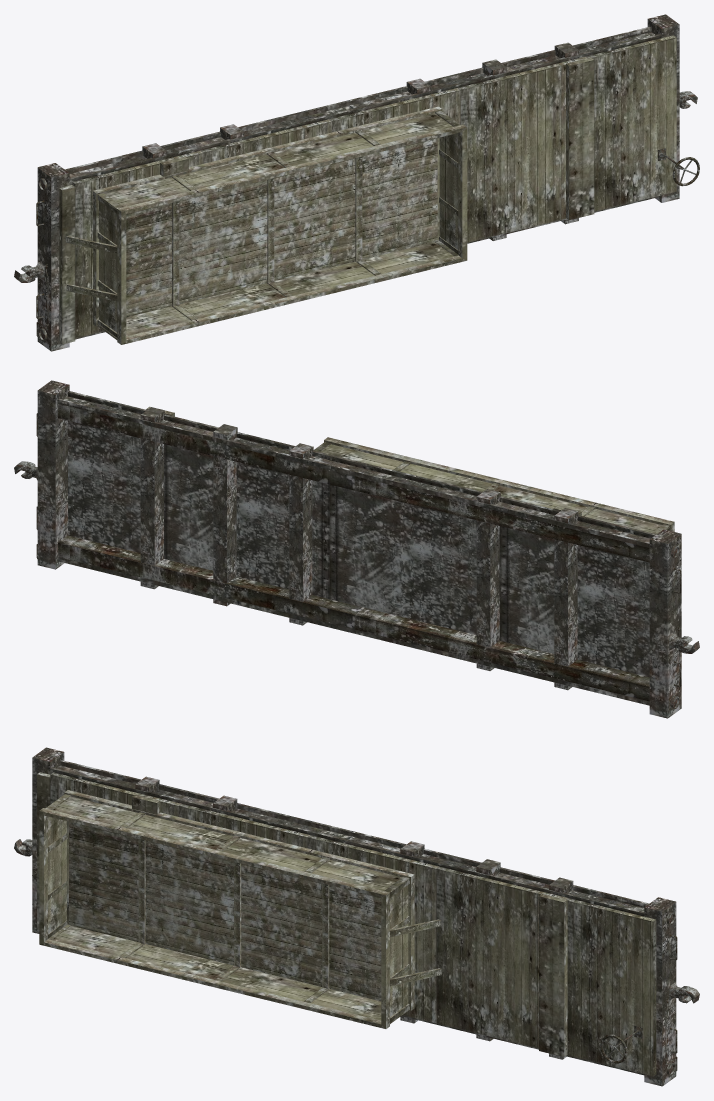
Rendered from prop_traincar_flathalfbox_snow.glb.
3 views of the same model, one above another, from view 1: azimuth 30°, elevation 25°; view 2: azimuth 150°, elevation 25°; view 3: azimuth 330°, elevation 25° (orthographic).
Size of the model in its own units: 397 by 97.54 by 45.97.
1 material, 1 textured.
